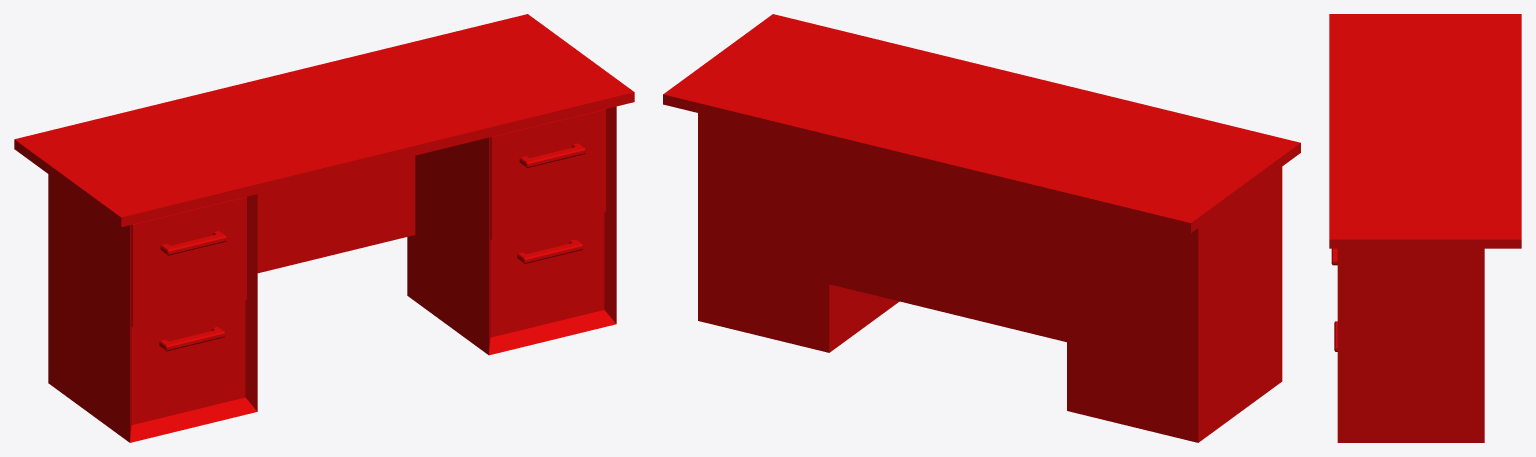
Rendered from SetoDeskSmall.fbx.
3 renders of one model, left to right at view 1: azimuth 30°, elevation 25°; view 2: azimuth 150°, elevation 25°; view 3: azimuth 270°, elevation 25°, orthographic. The views are drawn at different scales.
Visible parts, largest first — view 1: polySurface30, polySurface37; view 2: polySurface30; view 3: polySurface30.
Part boxes in pixels (<box>): polySurface30: <box>14,14,634,442</box>; polySurface37: <box>131,197,246,327</box>; polySurface30: <box>663,14,1300,442</box>; polySurface30: <box>1329,14,1521,442</box>.
Size of the model in its own units: 219 by 94.71 by 79.02.
